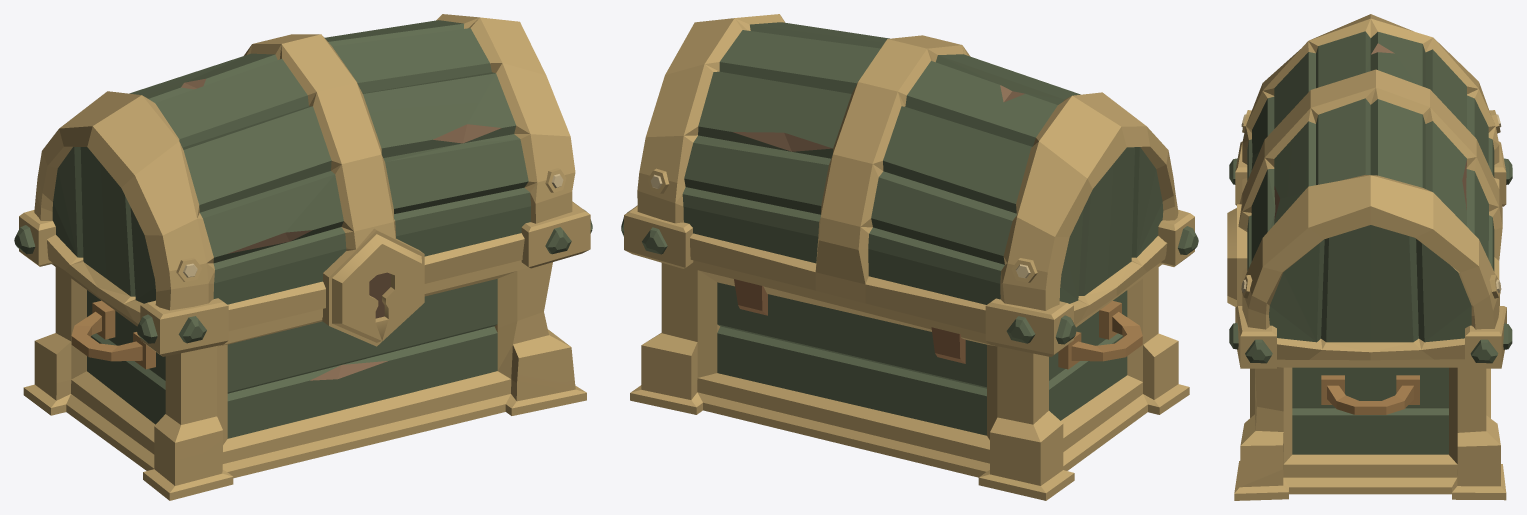
Rendered from SM_Prop_Chest_03.glb.
3 renders of one model, left to right at view 1: azimuth 30°, elevation 25°; view 2: azimuth 150°, elevation 25°; view 3: azimuth 270°, elevation 25°, orthographic. The views are drawn at different scales.
Visible parts, largest first — view 1: SM_Prop_Chest_03_Lid, SM_Prop_Chest_03; view 2: SM_Prop_Chest_03_Lid, SM_Prop_Chest_03; view 3: SM_Prop_Chest_03_Lid, SM_Prop_Chest_03.
Boxes of the visible parts, <box> form: SM_Prop_Chest_03_Lid: <box>14,14,592,356</box>; SM_Prop_Chest_03: <box>23,260,586,500</box>; SM_Prop_Chest_03_Lid: <box>621,14,1198,356</box>; SM_Prop_Chest_03: <box>630,260,1189,500</box>; SM_Prop_Chest_03_Lid: <box>1227,14,1512,368</box>; SM_Prop_Chest_03: <box>1234,280,1506,500</box>.
Bounding box in the file's own units: 0.0127 × 0.00965 × 0.0076.
Materials: 1 (1 with a texture image).
